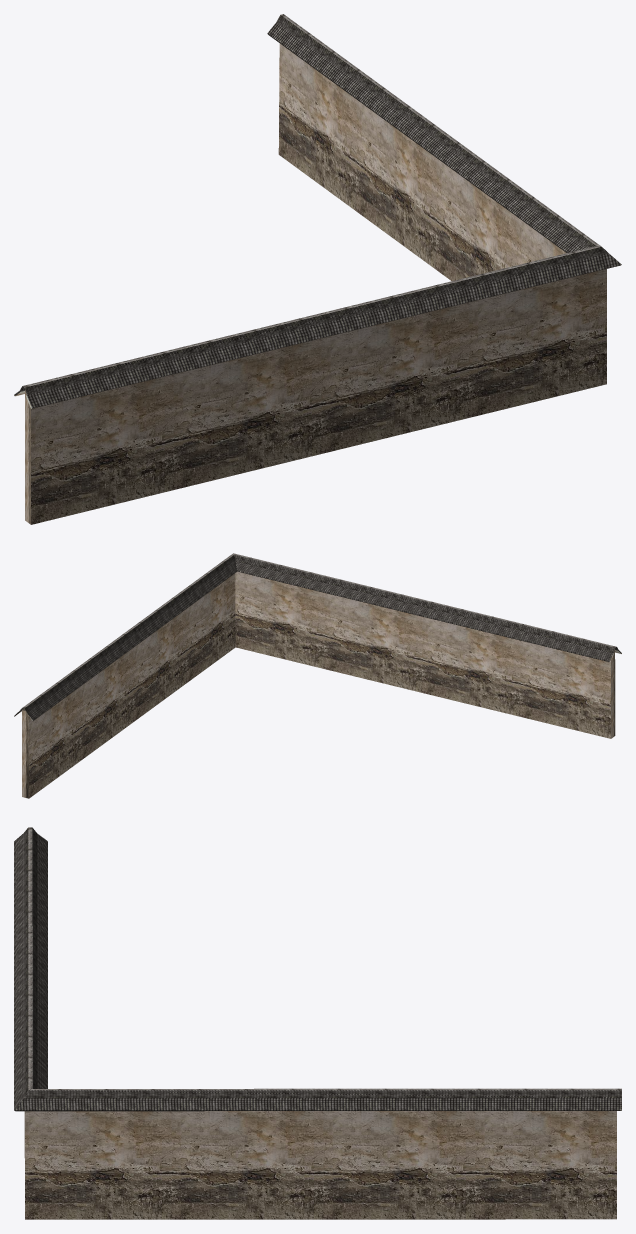
File: ian1541.obj
3 renders of one model, top to bottom at view 1: azimuth 30°, elevation 25°; view 2: azimuth 150°, elevation 25°; view 3: azimuth 270°, elevation 25°, orthographic. The views are drawn at different scales.
Parts seen in each view (by area): view 1: ian1541; view 2: ian1541; view 3: ian1541.
Boxes of the visible parts, x1,y1,x2,y2 form: ian1541: (14,14,621,524); ian1541: (14,553,621,798); ian1541: (14,827,621,1219).
Size of the model in its own units: 309 by 68.42 by 295.
